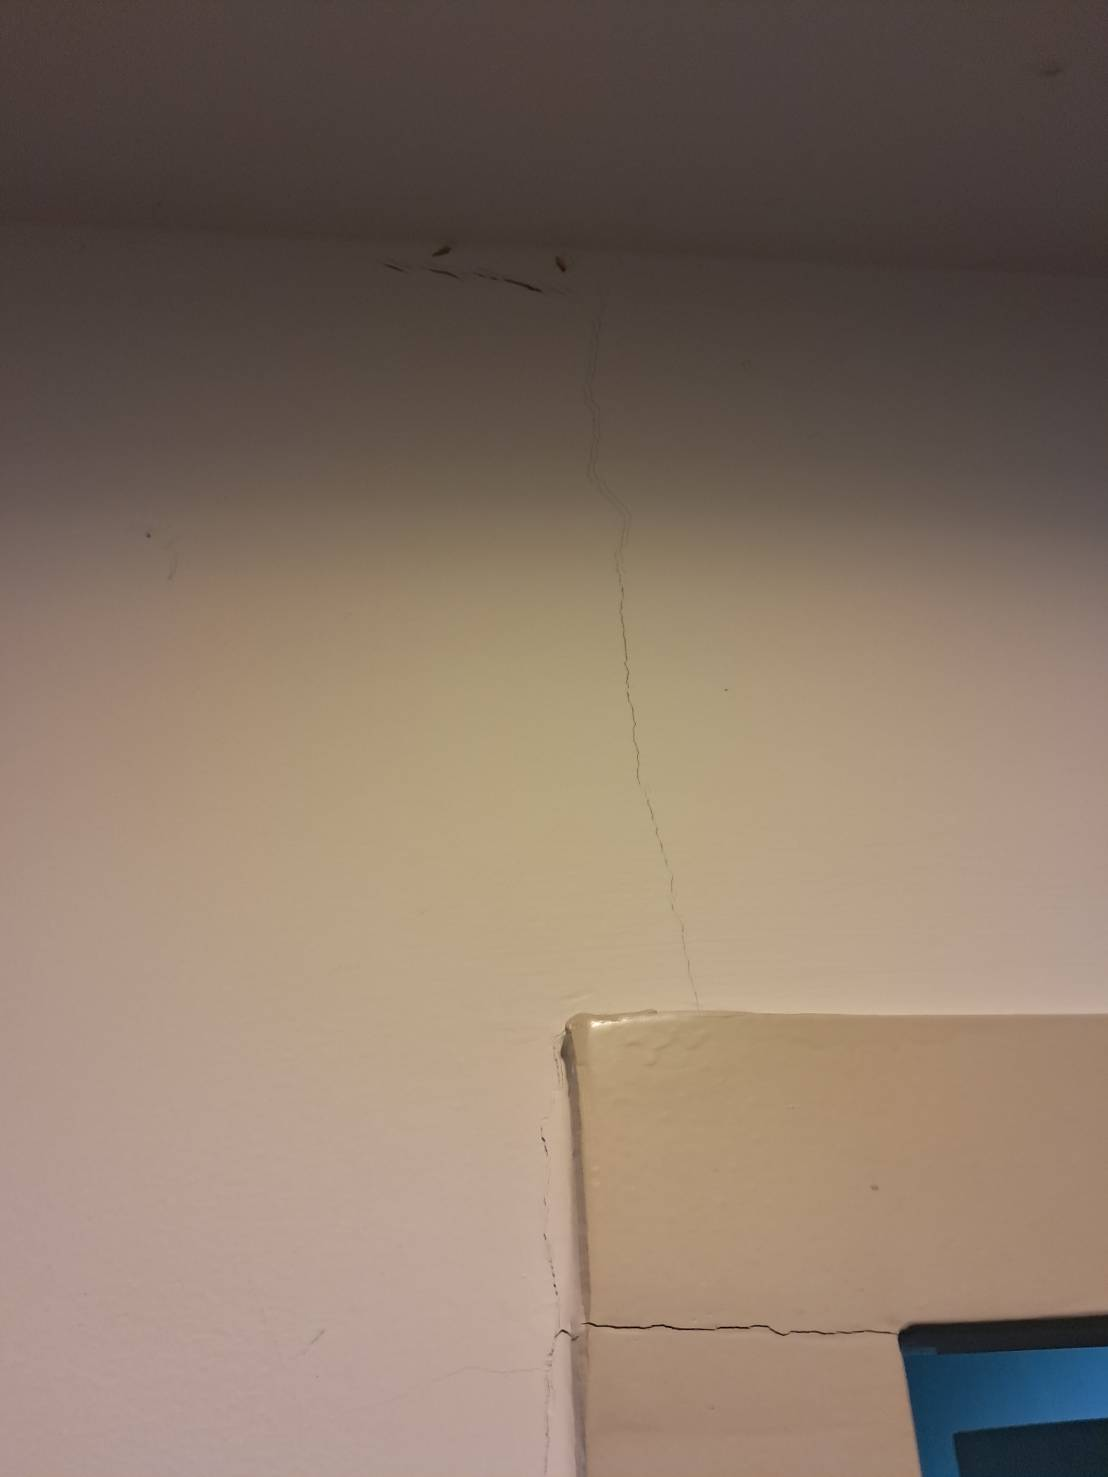Low: (358, 227, 765, 1008)
